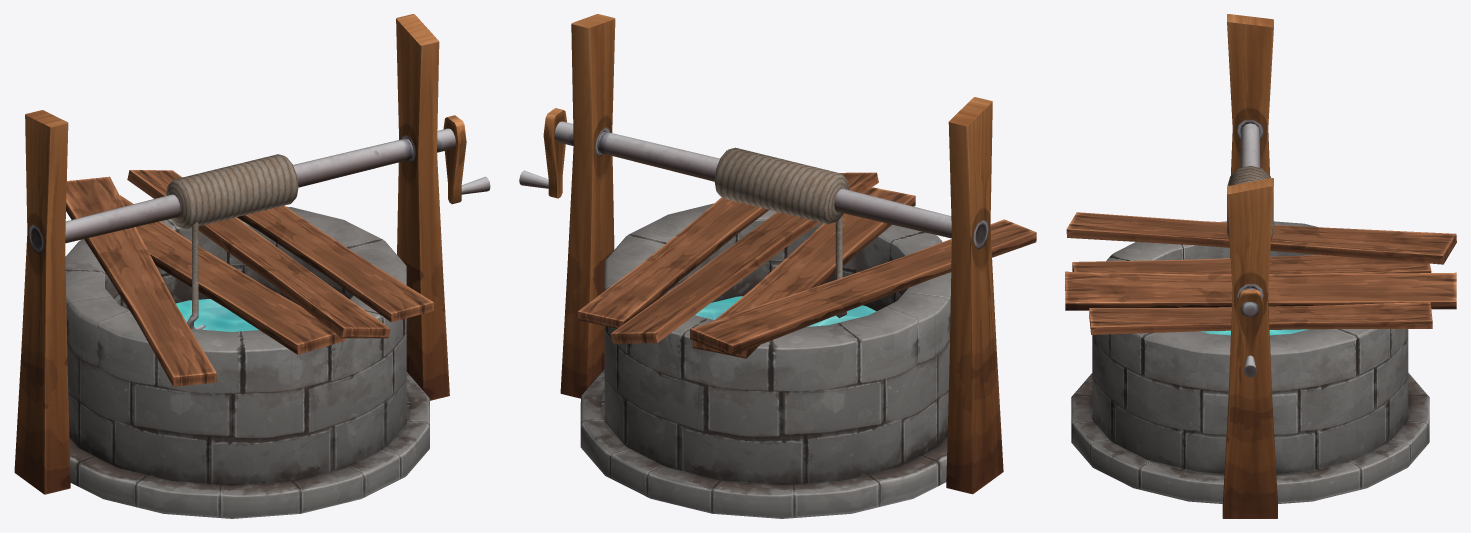
The model's file is Well01_2.FBX.
The picture shows the model from 3 angles, left to right: view 1: azimuth 30°, elevation 25°; view 2: azimuth 150°, elevation 25°; view 3: azimuth 270°, elevation 25°; orthographic projection. The views are drawn at different scales.
Visible parts, largest first — view 1: Well01_2; view 2: Well01_2; view 3: Well01_2.
Boxes of the visible parts, x1,y1,x2,y2 form: Well01_2: (14, 14, 490, 518); Well01_2: (519, 14, 1036, 518); Well01_2: (1065, 14, 1456, 518).
Size of what is drawn, in the model's own units: 2.79 by 2.12 by 2.29.
